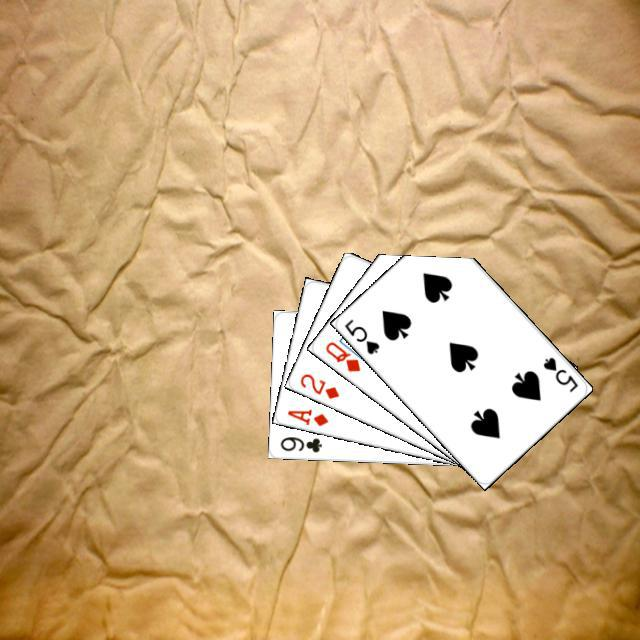2d: (295, 369, 341, 401)
5s: (339, 314, 381, 356), (538, 352, 580, 394)
9c: (276, 432, 323, 454)
Ad: (282, 404, 330, 428)
Qd: (320, 337, 362, 374)
